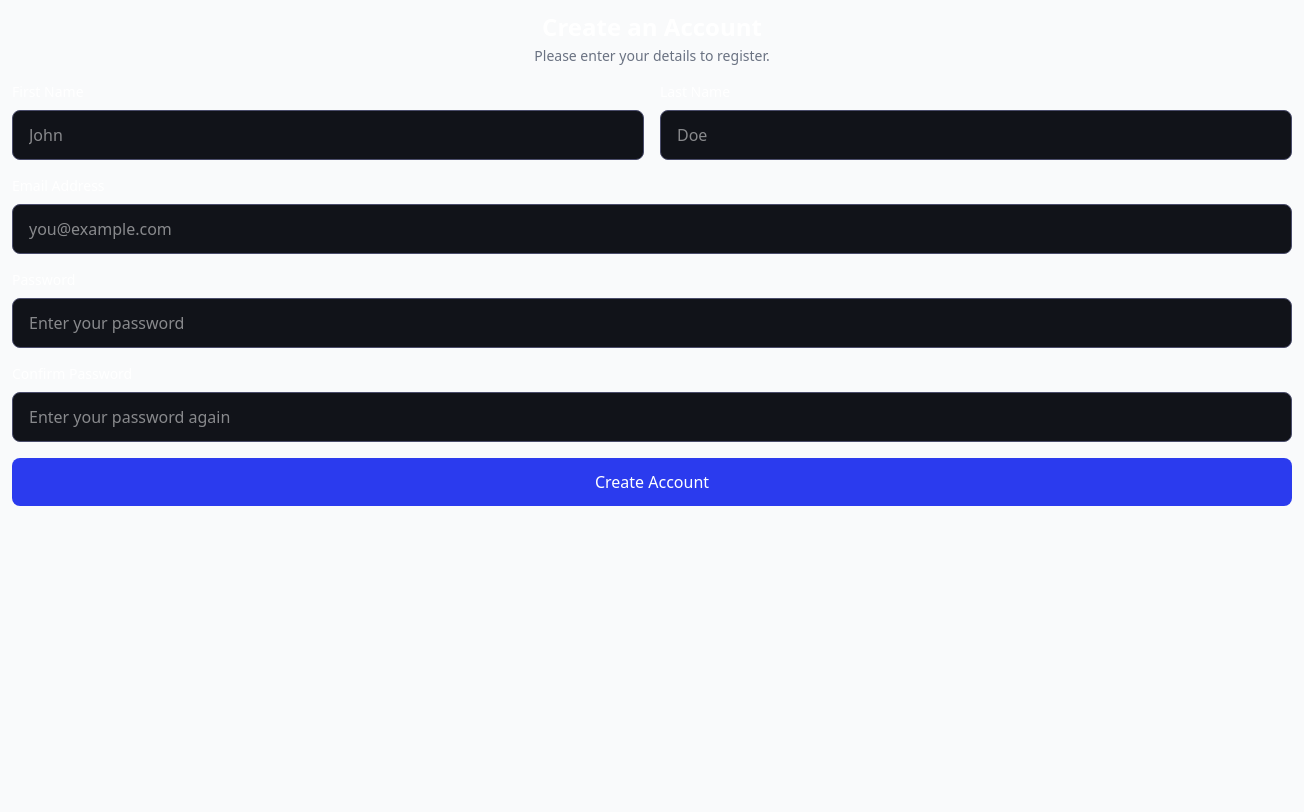
Scenario: RegisterForm - Integration Tests › should validate firstName minimum length
This screenshot has width=1304, height=812.
In the field labelled "First Name": x=328, y=135 x1=12 y1=110 x2=644 y2=160, type "A"
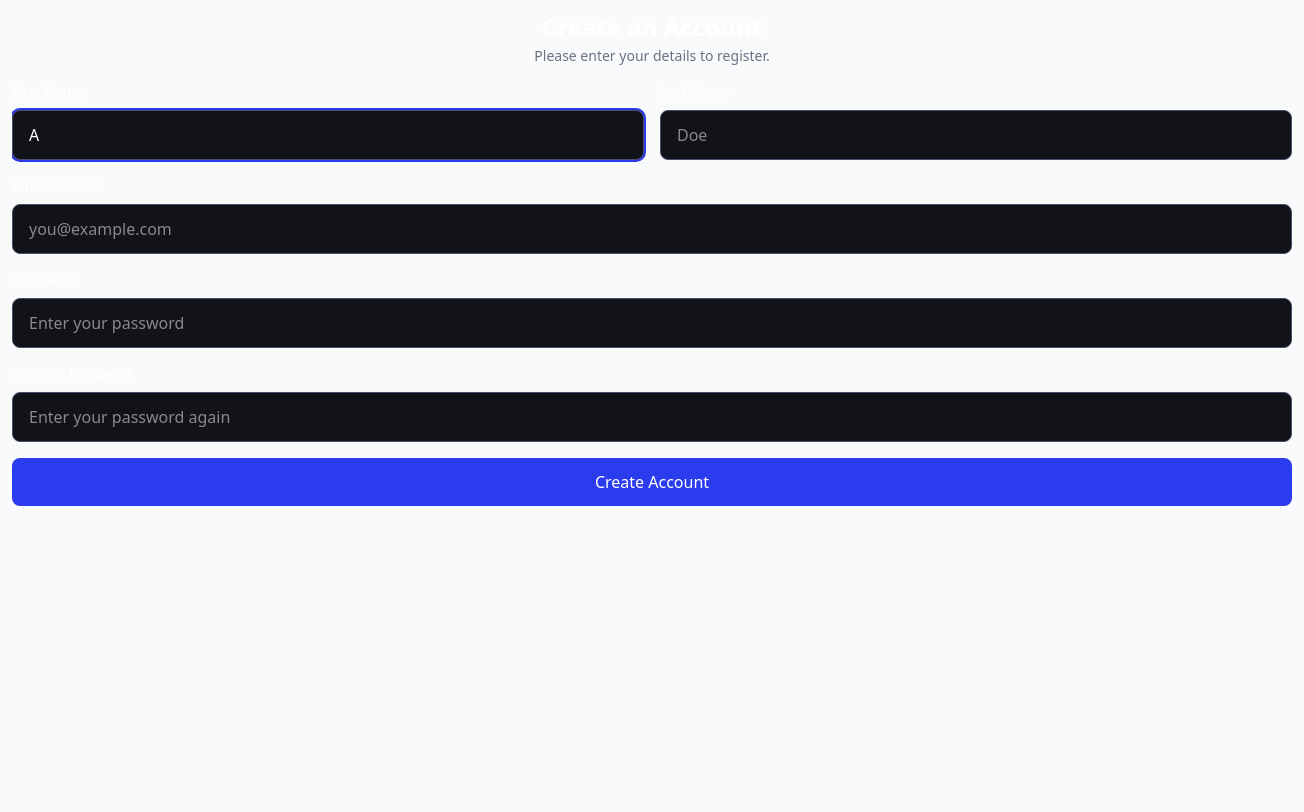
Click the button "Create Account": x=652, y=482 x1=12 y1=458 x2=1292 y2=506
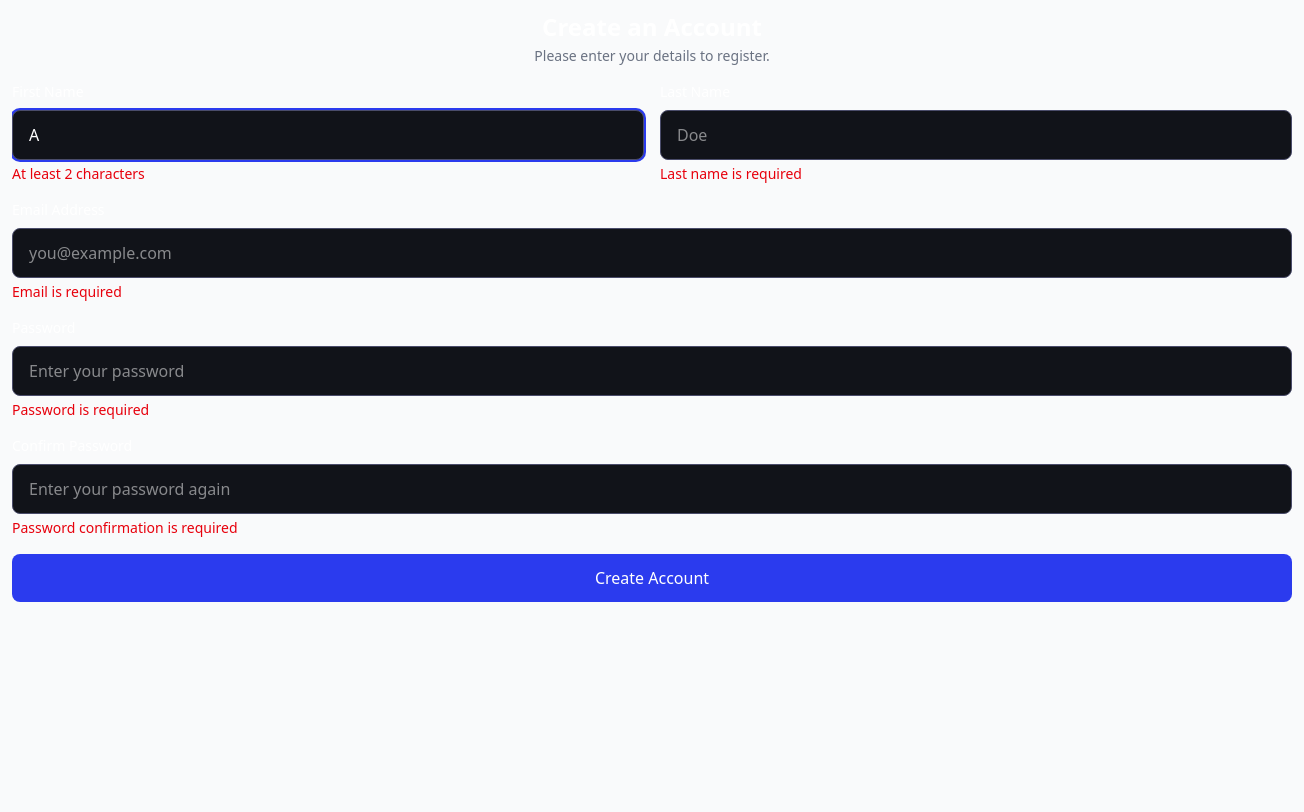
Check: the text "At least 2 characters" is shown, box x1=12 y1=164 x2=145 y2=183
